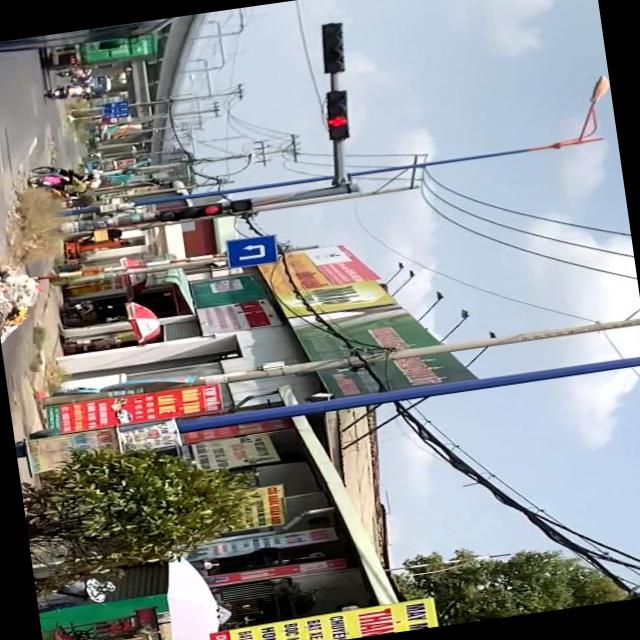I-409: (227, 235, 276, 269)
